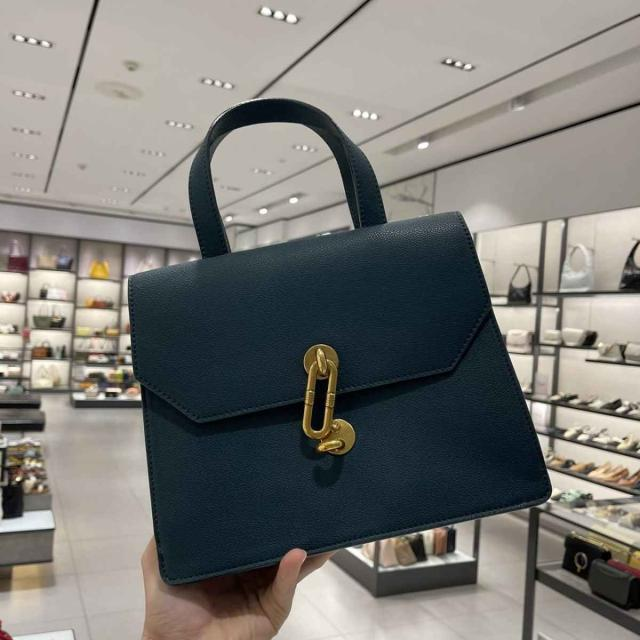handbag: (108, 186, 560, 586)
